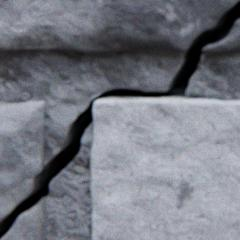brick: (92, 97, 239, 239)
broken_brick: (0, 0, 239, 51), (0, 100, 46, 223), (2, 196, 47, 239), (203, 19, 239, 51)
crack: (0, 1, 239, 239)
